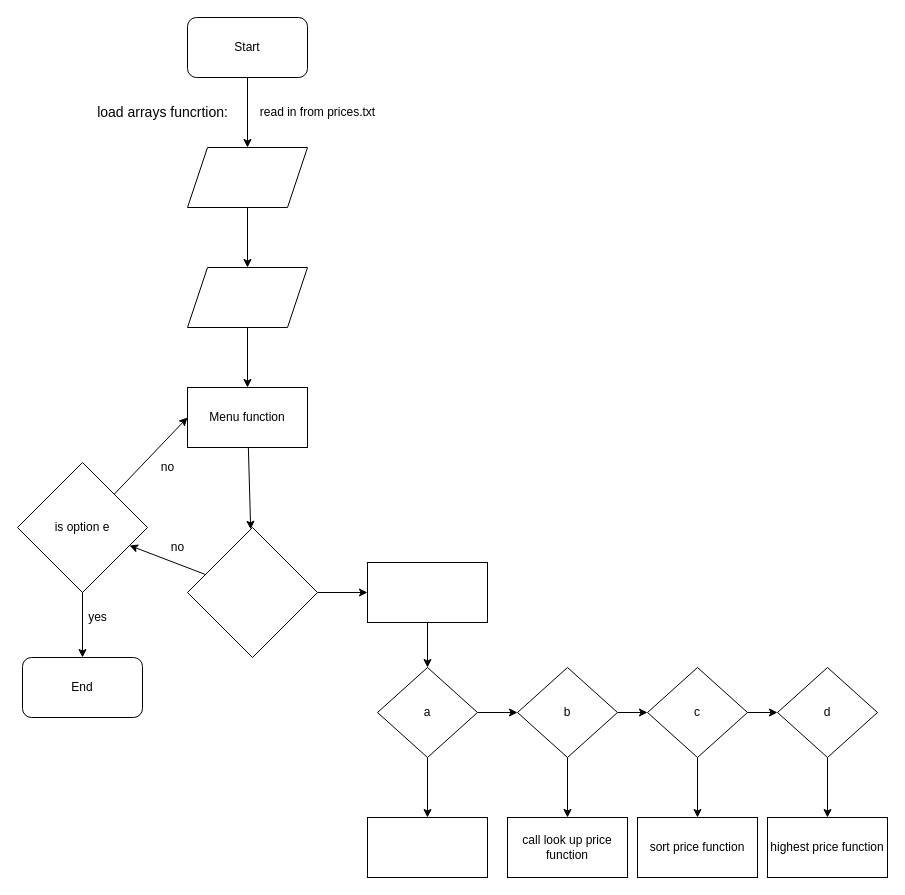
The diagram is 905 pixels wide and 895 high, and some of its shapes have lost their labels. Here are the shapes that lost their labels. From the top down, the centre of each, then its label:
At pixel 247 177: "string consoleNames".
At pixel 247 297: "int consolePrices".
At pixel 252 592: "is option abcd".
At pixel 427 592: "switch case".
At pixel 427 847: "call show arrays function".
